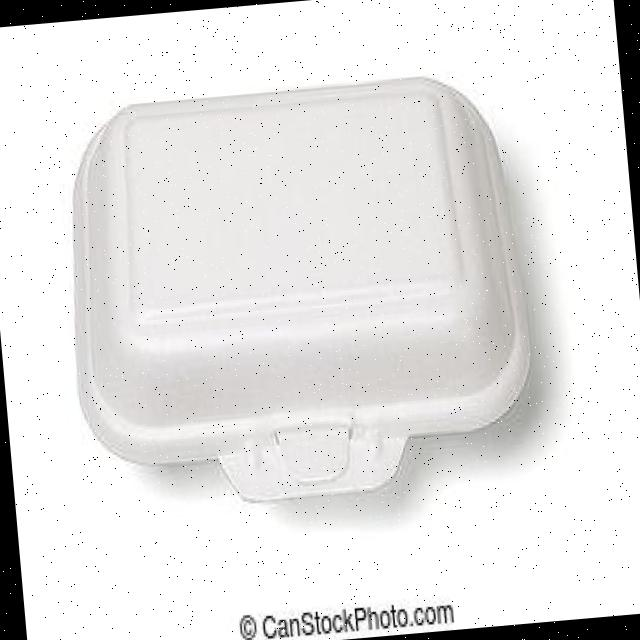styrofoam: (50, 63, 542, 520)
